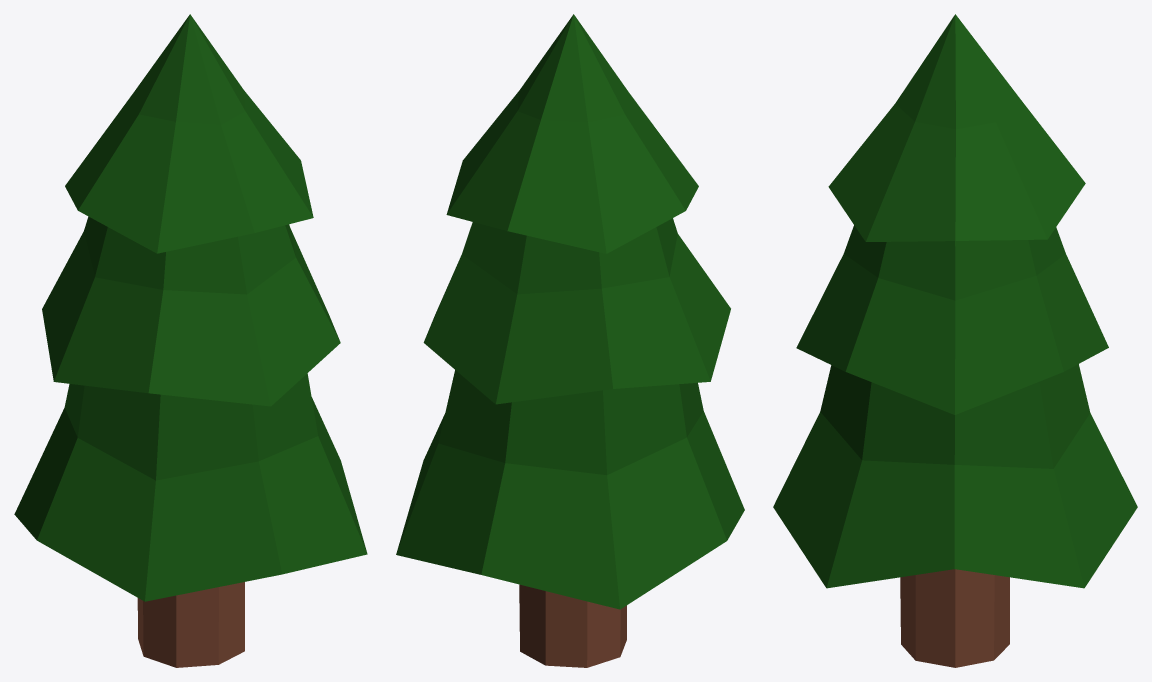
File: Tree_01_autumn_vc.fbx
3 views of the same model, side by side, from view 1: azimuth 30°, elevation 25°; view 2: azimuth 150°, elevation 25°; view 3: azimuth 270°, elevation 25° (orthographic).
Visible parts, largest first — view 1: Tree_01_autumn_vc; view 2: Tree_01_autumn_vc; view 3: Tree_01_autumn_vc.
Part boxes in pixels (bbox=[...]): Tree_01_autumn_vc: bbox=[14, 14, 367, 667]; Tree_01_autumn_vc: bbox=[396, 14, 744, 667]; Tree_01_autumn_vc: bbox=[773, 14, 1137, 667].
Bounding box in the file's own units: 216 × 430 × 226.
